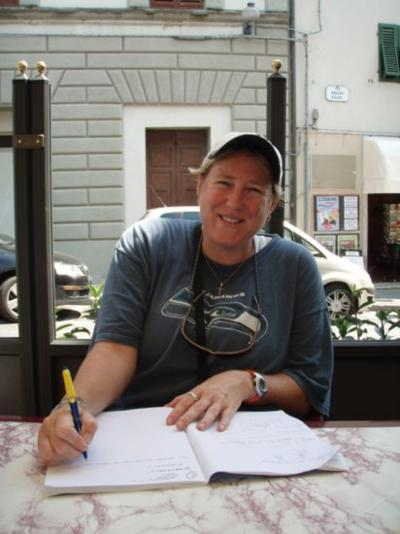person: (34, 129, 336, 467)
